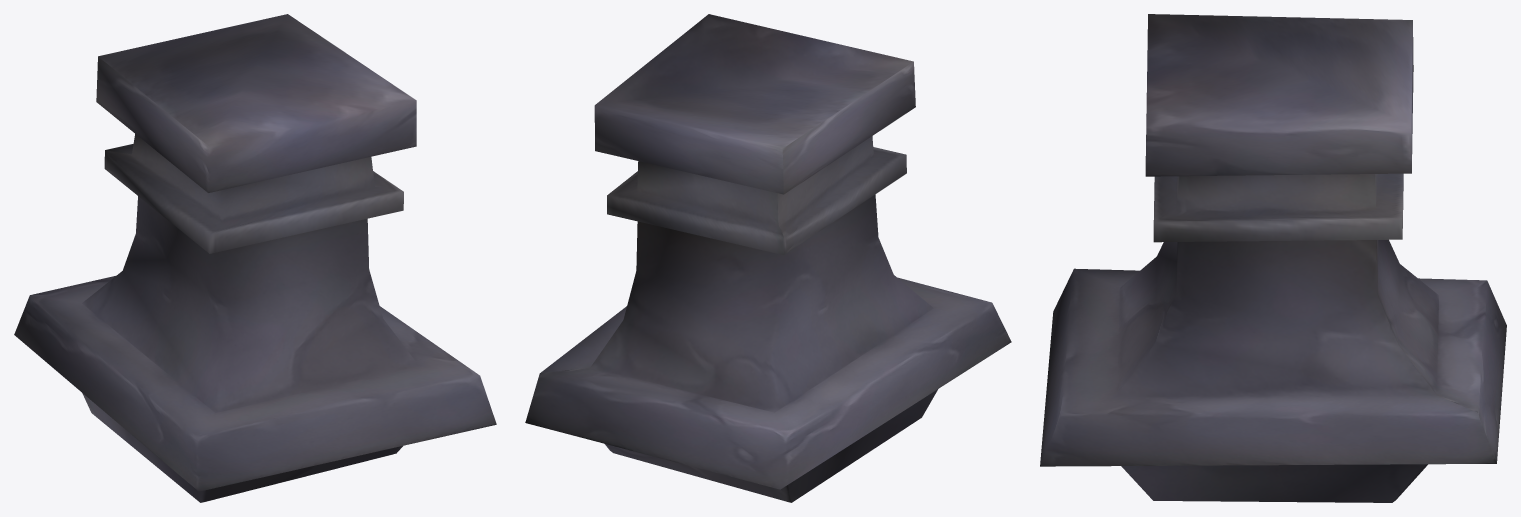
File: TwistedJungle_Wall02.FBX
3 renders of one model, left to right at view 1: azimuth 30°, elevation 25°; view 2: azimuth 150°, elevation 25°; view 3: azimuth 270°, elevation 25°, orthographic. The views are drawn at different scales.
Parts seen in each view (by area): view 1: TwistedJungle_Wall02; view 2: TwistedJungle_Wall02; view 3: TwistedJungle_Wall02.
Boxes of the visible parts, x1,y1,x2,y2 form: TwistedJungle_Wall02: (14,14,496,502); TwistedJungle_Wall02: (525,14,1011,502); TwistedJungle_Wall02: (1040,14,1506,502).
Bounding box in the file's own units: 72.35 × 83.97 × 91.91.
